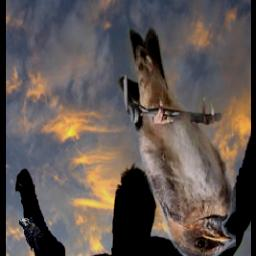Swallow: (115, 28, 235, 256)
Woodpecker: (18, 217, 44, 256)
